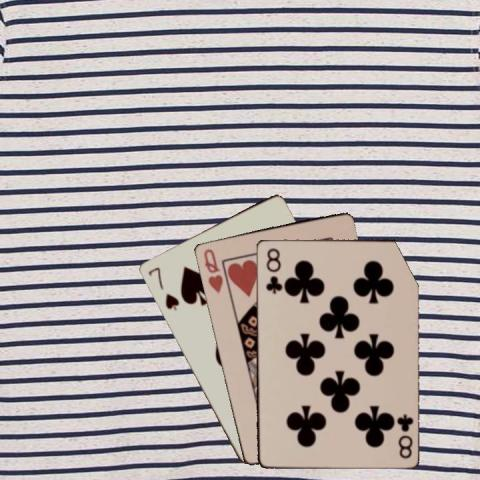7s: (145, 264, 180, 312)
8c: (394, 411, 415, 460), (263, 244, 281, 294)
Qh: (200, 245, 224, 295)
